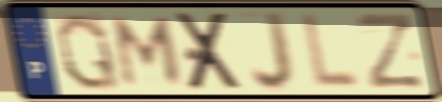J: (249, 9, 297, 95)
L: (300, 11, 363, 92)
M: (111, 14, 185, 88)
Q: (53, 10, 123, 93)
X: (173, 10, 246, 94)
Z: (353, 11, 427, 92)
